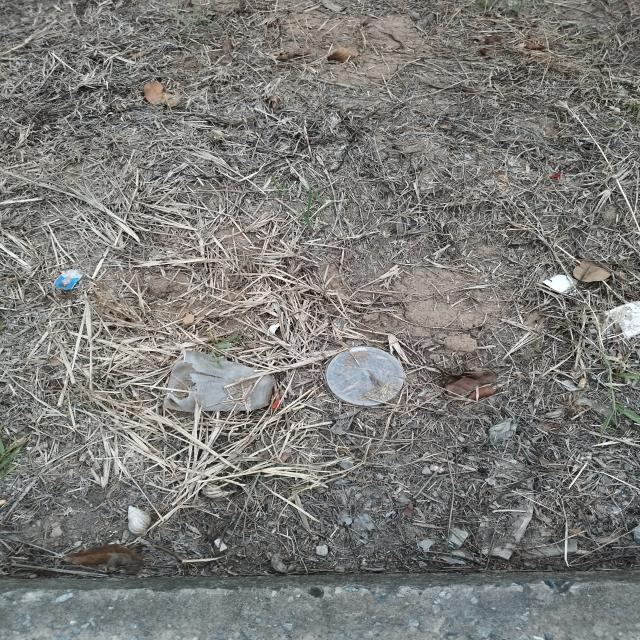lid: (325, 346, 404, 408)
